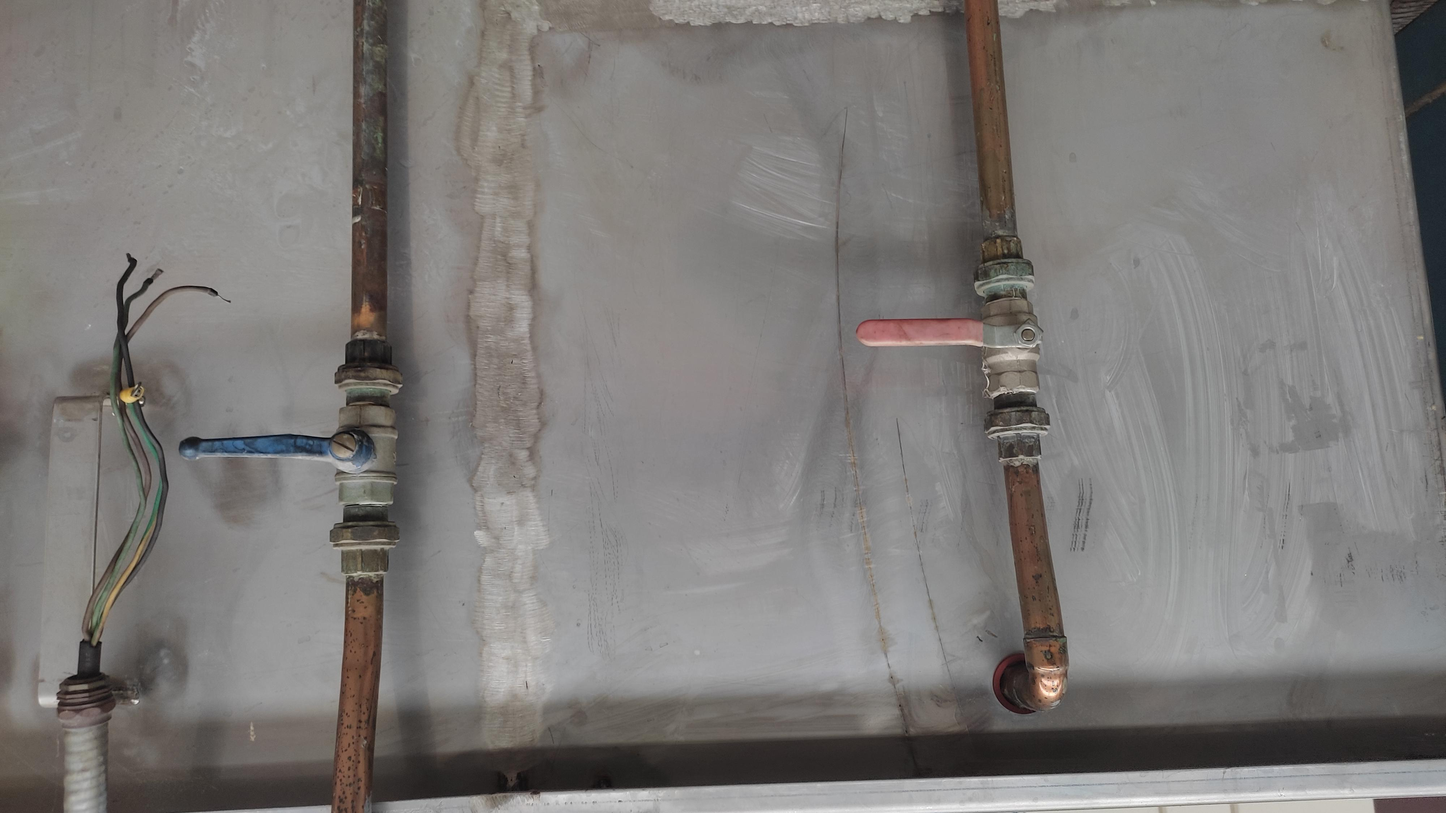closed valve: (172, 395, 406, 513), (852, 292, 1050, 400)
